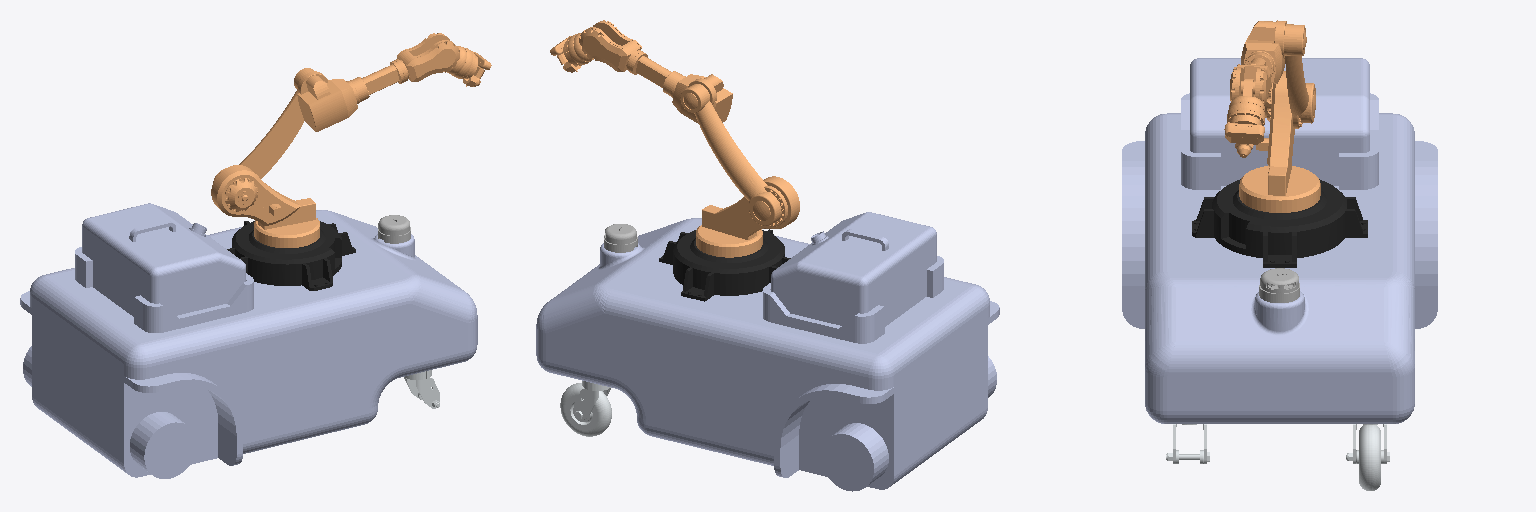
URDF robot description (beam_agrobot_v2):
<?xml version="1.0" encoding="utf-8"?>

<robot
  name="beam_agrobot_v2">
  <link
    name="base_link">
    <inertial>
      <origin
        xyz="-0.041773 1.1066E-07 0.0086049"
        rpy="0 0 0" />
      <mass
        value="234.66" />
      <inertia
        ixx="9.5676"
        ixy="-1.0199E-05"
        ixz="-0.80343"
        iyy="23.224"
        iyz="-2.3006E-06"
        izz="27.142" />
    </inertial>
    <visual>
      <origin
        xyz="0 0 0"
        rpy="0 0 0" />
      <geometry>
        <mesh
          filename="package://beam_agrobot_v2/meshes/base_link.STL" />
      </geometry>
      <material
        name="">
        <color
          rgba="0.79216 0.81961 0.93333 1" />
      </material>
    </visual>
    <collision>
      <origin
        xyz="0 0 0"
        rpy="0 0 0" />
      <geometry>
        <mesh
          filename="package://beam_agrobot_v2/meshes/base_link.STL" />
      </geometry>
    </collision>
  </link>
  <link
    name="lidar_link">
    <inertial>
      <origin
        xyz="-0.0028178 -0.00029956 0.023158"
        rpy="0 0 0" />
      <mass
        value="0.28578" />
      <inertia
        ixx="0.00019613"
        ixy="1.0228E-06"
        ixz="5.4025E-06"
        iyy="0.00018721"
        iyz="6.1195E-07"
        izz="0.00027358" />
    </inertial>
    <visual>
      <origin
        xyz="0 0 0"
        rpy="0 0 0" />
      <geometry>
        <mesh
          filename="package://beam_agrobot_v2/meshes/lidar_link.STL" />
      </geometry>
      <material
        name="">
        <color
          rgba="0.75294 0.75294 0.75294 0.4" />
      </material>
    </visual>
    <collision>
      <origin
        xyz="0 0 0"
        rpy="0 0 0" />
      <geometry>
        <mesh
          filename="package://beam_agrobot_v2/meshes/lidar_link.STL" />
      </geometry>
    </collision>
  </link>
  <joint
    name="lidar_joint"
    type="fixed">
    <origin
      xyz="0.4435 0 0.19682"
      rpy="0 0 0" />
    <parent
      link="base_link" />
    <child
      link="lidar_link" />
    <axis
      xyz="0 0 0" />
  </joint>
  <link
    name="right_wheel_link">
    <inertial>
      <origin
        xyz="0.00022467 -0.00049986 0.0036269"
        rpy="0 0 0" />
      <mass
        value="5.5356" />
      <inertia
        ixx="0.057208"
        ixy="-3.1261E-06"
        ixz="5.3496E-10"
        iyy="0.057214"
        iyz="2.2256E-09"
        izz="0.10823" />
    </inertial>
    <visual>
      <origin
        xyz="0 0 0"
        rpy="0 0 0" />
      <geometry>
        <mesh
          filename="package://beam_agrobot_v2/meshes/right_wheel_link.STL" />
      </geometry>
      <material
        name="">
        <color
          rgba="0.75294 0.75294 0.75294 1" />
      </material>
    </visual>
    <collision>
      <origin
        xyz="0 0 0"
        rpy="0 0 0" />
      <geometry>
        <mesh
          filename="package://beam_agrobot_v2/meshes/right_wheel_link.STL" />
      </geometry>
    </collision>
  </link>
  <joint
    name="right_wheel_joint"
    type="continuous">
    <origin
      xyz="-0.4505 -0.332 -0.1041"
      rpy="-1.5708 0 0" />
    <parent
      link="base_link" />
    <child
      link="right_wheel_link" />
    <axis
      xyz="0 0 1" />
    <limit
      effort="10"
      velocity="10" />
    <dynamics
      damping="0.1"
      friction="0.1" />
  </joint>
  <link
    name="left_wheel_link">
    <inertial>
      <origin
        xyz="0.00027874 -0.00047189 0.0016269"
        rpy="0 0 0" />
      <mass
        value="5.5356" />
      <inertia
        ixx="0.057209"
        ixy="-3.6667E-06"
        ixz="-1.0563E-08"
        iyy="0.057213"
        iyz="5.5206E-09"
        izz="0.10823" />
    </inertial>
    <visual>
      <origin
        xyz="0 0 0"
        rpy="0 0 0" />
      <geometry>
        <mesh
          filename="package://beam_agrobot_v2/meshes/left_wheel_link.STL" />
      </geometry>
      <material
        name="">
        <color
          rgba="0.75294 0.75294 0.75294 1" />
      </material>
    </visual>
    <collision>
      <origin
        xyz="0 0 0"
        rpy="0 0 0" />
      <geometry>
        <mesh
          filename="package://beam_agrobot_v2/meshes/left_wheel_link.STL" />
      </geometry>
    </collision>
  </link>
  <joint
    name="left_wheel_joint"
    type="continuous">
    <origin
      xyz="-0.45056 0.332 -0.10407"
      rpy="-1.5708 0 0" />
    <parent
      link="base_link" />
    <child
      link="left_wheel_link" />
    <axis
      xyz="0 0 -1" />
    <limit
      effort="10"
      velocity="10" />
    <dynamics
      damping="0.1"
      friction="0.1" />
  </joint>
  <link
    name="castor_l_swivel_link">
    <inertial>
      <origin
        xyz="0.0076563 -5.1505E-05 -0.032982"
        rpy="0 0 0" />
      <mass
        value="1.3179" />
      <inertia
        ixx="0.0006576"
        ixy="8.0971E-11"
        ixz="0.00010963"
        iyy="0.00079106"
        iyz="-5.8606E-11"
        izz="0.0008082" />
    </inertial>
    <visual>
      <origin
        xyz="0 0 0"
        rpy="0 0 0" />
      <geometry>
        <mesh
          filename="package://beam_agrobot_v2/meshes/castor_l_swivel_link.STL" />
      </geometry>
      <material
        name="">
        <color
          rgba="0.89804 0.91765 0.92941 1" />
      </material>
    </visual>
    <collision>
      <origin
        xyz="0 0 0"
        rpy="0 0 0" />
      <geometry>
        <mesh
          filename="package://beam_agrobot_v2/meshes/castor_l_swivel_link.STL" />
      </geometry>
    </collision>
  </link>
  <joint
    name="castor_l_swivel_joint"
    type="continuous">
    <origin
      xyz="0.398 0.2 -0.10453"
      rpy="0 0 0" />
    <parent
      link="base_link" />
    <child
      link="castor_l_swivel_link" />
    <axis
      xyz="0 0 -1" />
    <limit
      effort="10"
      velocity="10" />
    <dynamics
      damping="0.001"
      friction="0.001" />
  </joint>
  <link
    name="castor_l_wheel_link">
    <inertial>
      <origin
        xyz="-3.6082E-16 0 0.0305"
        rpy="0 0 0" />
      <mass
        value="5.3698" />
      <inertia
        ixx="0.0086725"
        ixy="-2.062E-19"
        ixz="8.5365E-19"
        iyy="0.0086725"
        iyz="1.1689E-19"
        izz="0.015544" />
    </inertial>
    <visual>
      <origin
        xyz="0 0 0"
        rpy="0 0 0" />
      <geometry>
        <mesh
          filename="package://beam_agrobot_v2/meshes/castor_l_wheel_link.STL" />
      </geometry>
      <material
        name="">
        <color
          rgba="0.89804 0.91765 0.92941 1" />
      </material>
    </visual>
    <collision>
      <origin
        xyz="0 0 0"
        rpy="0 0 0" />
      <geometry>
        <mesh
          filename="package://beam_agrobot_v2/meshes/castor_l_wheel_link.STL" />
      </geometry>
    </collision>
  </link>
  <joint
    name="castor_l_wheel_joint"
    type="continuous">
    <origin
      xyz="0.034301 -0.0305 -0.1004"
      rpy="-1.5708 0 0" />
    <parent
      link="castor_l_swivel_link" />
    <child
      link="castor_l_wheel_link" />
    <axis
      xyz="0 0 -1" />
    <limit
      effort="10"
      velocity="10" />
    <dynamics
      damping="0.001"
      friction="0.001" />
  </joint>
  <link
    name="castor_r_swivel_link">
    <inertial>
      <origin
        xyz="0.0076563 -5.1505E-05 -0.032982"
        rpy="0 0 0" />
      <mass
        value="1.3179" />
      <inertia
        ixx="0.0006576"
        ixy="8.096E-11"
        ixz="0.00010963"
        iyy="0.00079106"
        iyz="-5.8613E-11"
        izz="0.0008082" />
    </inertial>
    <visual>
      <origin
        xyz="0 0 0"
        rpy="0 0 0" />
      <geometry>
        <mesh
          filename="package://beam_agrobot_v2/meshes/castor_r_swivel_link.STL" />
      </geometry>
      <material
        name="">
        <color
          rgba="0.89804 0.91765 0.92941 1" />
      </material>
    </visual>
    <collision>
      <origin
        xyz="0 0 0"
        rpy="0 0 0" />
      <geometry>
        <mesh
          filename="package://beam_agrobot_v2/meshes/castor_r_swivel_link.STL" />
      </geometry>
    </collision>
  </link>
  <joint
    name="castor_r_swivel_joint"
    type="continuous">
    <origin
      xyz="0.398 -0.2 -0.10453"
      rpy="0 0 0" />
    <parent
      link="base_link" />
    <child
      link="castor_r_swivel_link" />
    <axis
      xyz="0 0 -1" />
    <limit
      effort="10"
      velocity="10" />
    <dynamics
      damping="0.001"
      friction="0.001" />
  </joint>
  <link
    name="castor_r_wheel_link">
    <inertial>
      <origin
        xyz="-3.747E-16 -5.5511E-17 0.0305"
        rpy="0 0 0" />
      <mass
        value="5.3698" />
      <inertia
        ixx="0.0086725"
        ixy="1.4155E-19"
        ixz="9.1092E-19"
        iyy="0.0086725"
        iyz="9.8723E-20"
        izz="0.015544" />
    </inertial>
    <visual>
      <origin
        xyz="0 0 0"
        rpy="0 0 0" />
      <geometry>
        <mesh
          filename="package://beam_agrobot_v2/meshes/castor_r_wheel_link.STL" />
      </geometry>
      <material
        name="">
        <color
          rgba="0.89804 0.91765 0.92941 1" />
      </material>
    </visual>
    <collision>
      <origin
        xyz="0 0 0"
        rpy="0 0 0" />
      <geometry>
        <mesh
          filename="package://beam_agrobot_v2/meshes/castor_r_wheel_link.STL" />
      </geometry>
    </collision>
  </link>
  <joint
    name="castor_r_wheel_joint"
    type="continuous">
    <origin
      xyz="0.034301 -0.0305 -0.1004"
      rpy="-1.5708 0 0" />
    <parent
      link="castor_r_swivel_link" />
    <child
      link="castor_r_wheel_link" />
    <axis
      xyz="0 0 -1" />
    <limit
      effort="10"
      velocity="10" />
    <dynamics
      damping="0.001"
      friction="0.001" />
  </joint>
  <link
    name="arm_base_link">
    <inertial>
      <origin
        xyz="-0.0014254 0.0012318 0.038724"
        rpy="0 0 0" />
      <mass
        value="5.7738" />
      <inertia
        ixx="0.036402"
        ixy="-0.00079994"
        ixz="4.1166E-05"
        iyy="0.036438"
        iyz="-3.4695E-05"
        izz="0.066455" />
    </inertial>
    <visual>
      <origin
        xyz="0 0 0"
        rpy="0 0 0" />
      <geometry>
        <mesh
          filename="package://beam_agrobot_v2/meshes/arm_base_link.STL" />
      </geometry>
      <material
        name="">
        <color
          rgba="0.2 0.2 0.2 1" />
      </material>
    </visual>
    <collision>
      <origin
        xyz="0 0 0"
        rpy="0 0 0" />
      <geometry>
        <mesh
          filename="package://beam_agrobot_v2/meshes/arm_base_link.STL" />
      </geometry>
    </collision>
  </link>
  <joint
    name="arm_mount_joint"
    type="fixed">
    <origin
      xyz="0.10524 0 0.19682"
      rpy="0 0 0" />
    <parent
      link="base_link" />
    <child
      link="arm_base_link" />
    <axis
      xyz="0 0 0" />
  </joint>
  <link
    name="base_yaw_link">
    <inertial>
      <origin
        xyz="-0.059184 0.0016136 0.084797"
        rpy="0 0 0" />
      <mass
        value="2.388" />
      <inertia
        ixx="0.012377"
        ixy="0.0005197"
        ixz="0.0094393"
        iyy="0.024644"
        iyz="-0.00032073"
        izz="0.016814" />
    </inertial>
    <visual>
      <origin
        xyz="0 0 0"
        rpy="0 0 0" />
      <geometry>
        <mesh
          filename="package://beam_agrobot_v2/meshes/base_yaw_link.STL" />
      </geometry>
      <material
        name="">
        <color
          rgba="0.98824 0.73725 0.51765 1" />
      </material>
    </visual>
    <collision>
      <origin
        xyz="0 0 0"
        rpy="0 0 0" />
      <geometry>
        <mesh
          filename="package://beam_agrobot_v2/meshes/base_yaw_link.STL" />
      </geometry>
    </collision>
  </link>
  <joint
    name="base_yaw_joint"
    type="revolute">
    <origin
      xyz="0 0 0.085"
      rpy="0 0 0" />
    <parent
      link="arm_base_link" />
    <child
      link="base_yaw_link" />
    <axis
      xyz="0 0 1" />
    <limit
      lower="-3.14"
      upper="3.14"
      effort="30"
      velocity="1.5" />
    <dynamics
      damping="0.1"
      friction="0.1" />
  </joint>
  <link
    name="shoulder_link">
    <inertial>
      <origin
        xyz="0.10938 -0.10526 0.026202"
        rpy="0 0 0" />
      <mass
        value="1.0438" />
      <inertia
        ixx="0.010591"
        ixy="0.008946"
        ixz="0.00081718"
        iyy="0.0088945"
        iyz="-0.00082862"
        izz="0.019033" />
    </inertial>
    <visual>
      <origin
        xyz="0 0 0"
        rpy="0 0 0" />
      <geometry>
        <mesh
          filename="package://beam_agrobot_v2/meshes/shoulder_link.STL" />
      </geometry>
      <material
        name="">
        <color
          rgba="0.98824 0.73725 0.51765 1" />
      </material>
    </visual>
    <collision>
      <origin
        xyz="0 0 0"
        rpy="0 0 0" />
      <geometry>
        <mesh
          filename="package://beam_agrobot_v2/meshes/shoulder_link.STL" />
      </geometry>
    </collision>
  </link>
  <joint
    name="shoulder_pitch_joint"
    type="revolute">
    <origin
      xyz="-0.14936 0.013835 0.16"
      rpy="-1.5708 0 0" />
    <parent
      link="base_yaw_link" />
    <child
      link="shoulder_link" />
    <axis
      xyz="0 0 -1" />
    <limit
      lower="-1.57"
      upper="1.57"
      effort="40"
      velocity="1" />
    <dynamics
      damping="0.1"
      friction="0.1" />
  </joint>
  <link
    name="elbow_link">
    <inertial>
      <origin
        xyz="0.11923 0.0095672 -0.058054"
        rpy="0 0 0" />
      <mass
        value="2.011" />
      <inertia
        ixx="0.0029441"
        ixy="0.0015223"
        ixz="0.00083258"
        iyy="0.0098705"
        iyz="-4.6292E-05"
        izz="0.010343" />
    </inertial>
    <visual>
      <origin
        xyz="0 0 0"
        rpy="0 0 0" />
      <geometry>
        <mesh
          filename="package://beam_agrobot_v2/meshes/elbow_link.STL" />
      </geometry>
      <material
        name="">
        <color
          rgba="0.98824 0.73725 0.51765 1" />
      </material>
    </visual>
    <collision>
      <origin
        xyz="0 0 0"
        rpy="0 0 0" />
      <geometry>
        <mesh
          filename="package://beam_agrobot_v2/meshes/elbow_link.STL" />
      </geometry>
    </collision>
  </link>
  <joint
    name="elbow_pitch_joint"
    type="revolute">
    <origin
      xyz="0.23355 -0.26144 -0.0015474"
      rpy="0 0 0" />
    <parent
      link="shoulder_link" />
    <child
      link="elbow_link" />
    <axis
      xyz="0 0 -1" />
    <limit
      lower="-1.57"
      upper="1.57"
      effort="25"
      velocity="1.5" />
    <dynamics
      damping="0.1"
      friction="0.1" />
  </joint>
  <link
    name="wrist_pitch_link">
    <inertial>
      <origin
        xyz="0.050187 0.033365 -0.0046487"
        rpy="0 0 0" />
      <mass
        value="0.35016" />
      <inertia
        ixx="0.0002907"
        ixy="-7.07E-05"
        ixz="1.0006E-05"
        iyy="0.00035003"
        iyz="6.5488E-06"
        izz="0.0003978" />
    </inertial>
    <visual>
      <origin
        xyz="0 0 0"
        rpy="0 0 0" />
      <geometry>
        <mesh
          filename="package://beam_agrobot_v2/meshes/wrist_pitch_link.STL" />
      </geometry>
      <material
        name="">
        <color
          rgba="0.98824 0.73725 0.51765 1" />
      </material>
    </visual>
    <collision>
      <origin
        xyz="0 0 0"
        rpy="0 0 0" />
      <geometry>
        <mesh
          filename="package://beam_agrobot_v2/meshes/wrist_pitch_link.STL" />
      </geometry>
    </collision>
  </link>
  <joint
    name="wrist_pitch_joint"
    type="revolute">
    <origin
      xyz="0.35465 -0.048027 -0.081056"
      rpy="0 0 0" />
    <parent
      link="elbow_link" />
    <child
      link="wrist_pitch_link" />
    <axis
      xyz="0 0 1" />
    <limit
      lower="-1.57"
      upper="1.57"
      effort="10"
      velocity="2" />
    <dynamics
      damping="0.1"
      friction="0.1" />
  </joint>
  <link
    name="wrist_roll_link">
    <inertial>
      <origin
        xyz="0.022162 0.011473 -0.0019139"
        rpy="0 0 0" />
      <mass
        value="0.16506" />
      <inertia
        ixx="8.3037E-05"
        ixy="1.1941E-06"
        ixz="-3.3771E-06"
        iyy="8.206E-05"
        iyz="-2.2439E-06"
        izz="3.7143E-05" />
    </inertial>
    <visual>
      <origin
        xyz="0 0 0"
        rpy="0 0 0" />
      <geometry>
        <mesh
          filename="package://beam_agrobot_v2/meshes/wrist_roll_link.STL" />
      </geometry>
      <material
        name="">
        <color
          rgba="0.98824 0.73725 0.51765 1" />
      </material>
    </visual>
    <collision>
      <origin
        xyz="0 0 0"
        rpy="0 0 0" />
      <geometry>
        <mesh
          filename="package://beam_agrobot_v2/meshes/wrist_roll_link.STL" />
      </geometry>
    </collision>
  </link>
  <joint
    name="wrist_roll_joint"
    type="revolute">
    <origin
      xyz="0.081369 0.054095 -0.0075371"
      rpy="0 0 0" />
    <parent
      link="wrist_pitch_link" />
    <child
      link="wrist_roll_link" />
    <axis
      xyz="1 0 0" />
    <limit
      lower="-3.14"
      upper="3.14"
      effort="10"
      velocity="2" />
    <dynamics
      damping="0.1"
      friction="0.1" />
  </joint>
</robot>

--- Facts derived from the render (not from the file) ---
The picture shows the robot from 3 angles, left to right: view 1: azimuth 30°, elevation 25°; view 2: azimuth 150°, elevation 25°; view 3: azimuth 270°, elevation 25°; orthographic projection.
Robot: beam_agrobot_v2 — 14 links, 13 joints (5 revolute, 6 continuous, 2 fixed); root link base_link; default pose: all joints at 0.
Links seen in each view (by area): view 1: base_link, elbow_link, base_yaw_link, arm_base_link, shoulder_link, castor_r_swivel_link, lidar_link, wrist_pitch_link; view 2: base_link, arm_base_link, elbow_link, shoulder_link, base_yaw_link, castor_l_wheel_link, lidar_link, castor_l_swivel_link; view 3: base_link, arm_base_link, base_yaw_link, elbow_link, shoulder_link, castor_l_wheel_link, lidar_link, wrist_roll_link, wrist_pitch_link, castor_r_swivel_link.
Link boxes in pixels (x1=…): base_link: x1=20, y1=203, x2=477, y2=478; elbow_link: x1=297, y1=33, x2=459, y2=131; base_yaw_link: x1=211, y1=165, x2=319, y2=247; arm_base_link: x1=227, y1=221, x2=355, y2=290; shoulder_link: x1=213, y1=68, x2=313, y2=181; castor_r_swivel_link: x1=404, y1=370, x2=439, y2=408; lidar_link: x1=378, y1=215, x2=410, y2=243; wrist_pitch_link: x1=447, y1=46, x2=475, y2=78; base_link: x1=536, y1=212, x2=999, y2=491; arm_base_link: x1=659, y1=229, x2=790, y2=301; elbow_link: x1=579, y1=20, x2=732, y2=123; shoulder_link: x1=680, y1=84, x2=787, y2=226; base_yaw_link: x1=696, y1=176, x2=799, y2=257; castor_l_wheel_link: x1=560, y1=383, x2=611, y2=436; lidar_link: x1=604, y1=224, x2=637, y2=252; castor_l_swivel_link: x1=574, y1=381, x2=610, y2=419; base_link: x1=1122, y1=58, x2=1437, y2=423; arm_base_link: x1=1192, y1=179, x2=1367, y2=267; base_yaw_link: x1=1239, y1=71, x2=1320, y2=212; elbow_link: x1=1230, y1=20, x2=1286, y2=105; shoulder_link: x1=1284, y1=24, x2=1315, y2=128; castor_l_wheel_link: x1=1359, y1=425, x2=1380, y2=490; lidar_link: x1=1259, y1=268, x2=1299, y2=302; wrist_roll_link: x1=1224, y1=117, x2=1264, y2=157; wrist_pitch_link: x1=1227, y1=79, x2=1265, y2=125; castor_r_swivel_link: x1=1166, y1=424, x2=1209, y2=463.
Bounding box of the posed robot: 1.23 × 0.7 × 1.08 m (x, y, z).
Meshes: 14 distinct files referenced, 11 mesh visuals loaded (11 binary STL); not drawn: 3 (reference not matched to a file when rendering).
